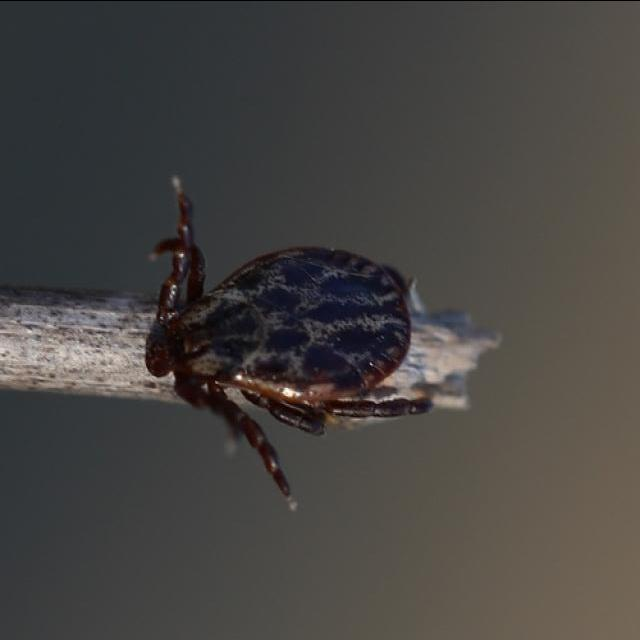Dermacentor Reticulatus-M: (142, 189, 433, 510)
